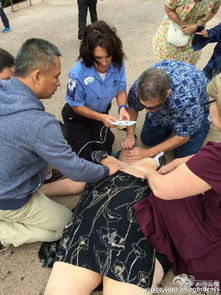fall: (25, 128, 174, 295)
